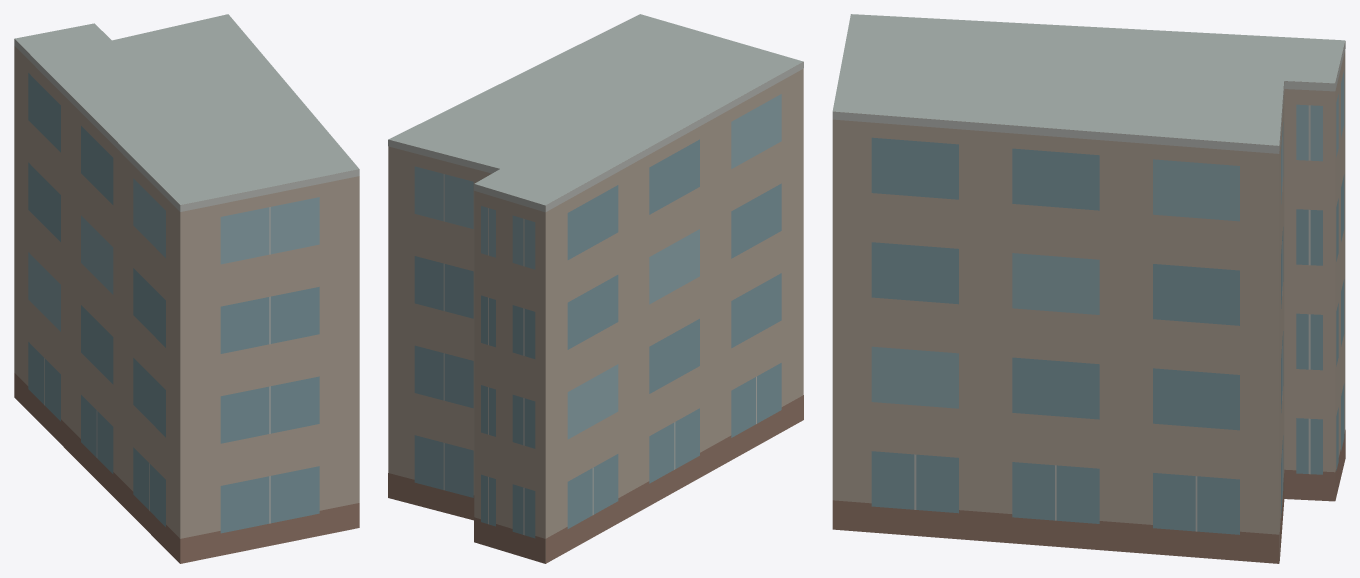
Rendered from survey-upis-32549243.glb.
3 renders of one model, left to right at view 1: azimuth 30°, elevation 25°; view 2: azimuth 150°, elevation 25°; view 3: azimuth 270°, elevation 25°, orthographic. The views are drawn at different scales.
Parts seen in each view (by area): view 1: survey-upis-32549243.tmp; view 2: survey-upis-32549243.tmp; view 3: survey-upis-32549243.tmp.
Part boxes in pixels (x1,y1,x2,y2): survey-upis-32549243.tmp: [14, 14, 359, 563]; survey-upis-32549243.tmp: [388, 14, 803, 563]; survey-upis-32549243.tmp: [832, 14, 1345, 563].
Bounding box in the file's own units: 8.61 × 12.7 × 14.14.
